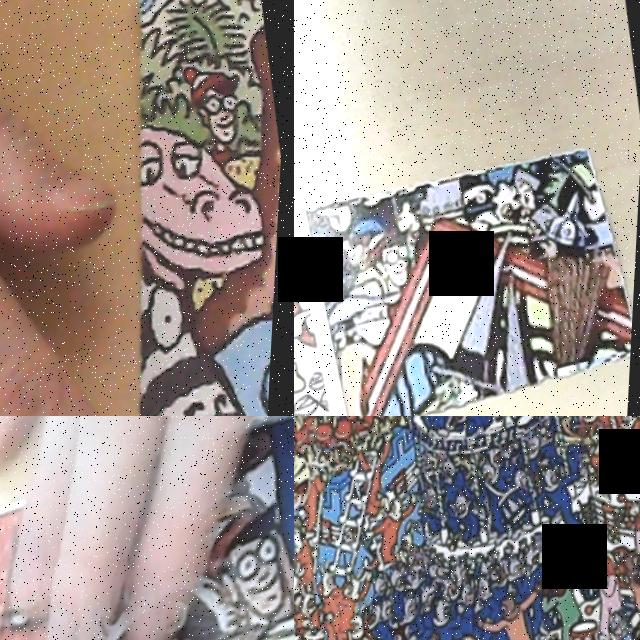waldo: (189, 491, 294, 640), (180, 57, 260, 171), (369, 231, 427, 303)
